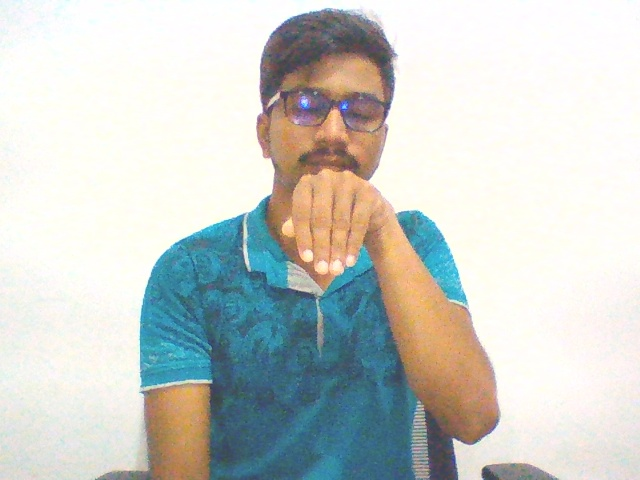Squirrel: (268, 158, 398, 285)
